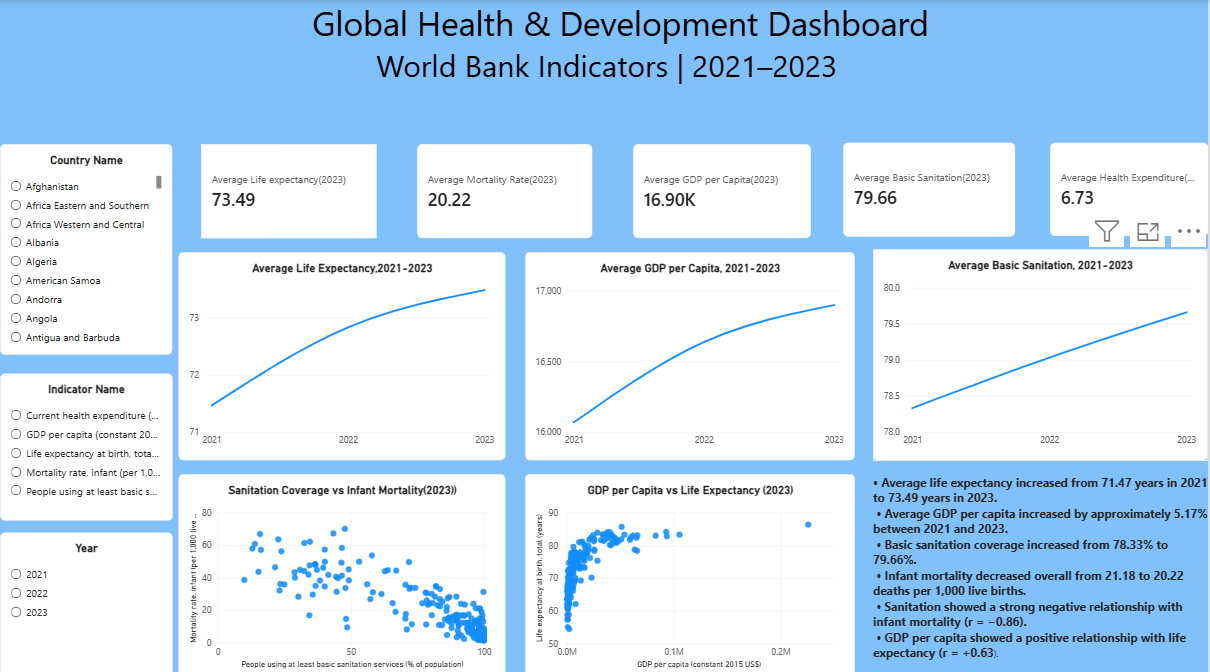

This screenshot's page, from the dashboard's own definition file:
{"tool":"powerbi","page":{"name":"Page 1","canvas":[1920,1080],"ordinal":0},"visuals":[{"type":"textbox","box":[9.5,0,1911.1,138.4],"z":0},{"type":"cardVisual","title":"Average Life Expectancy","fields":{"Data":["Avg(WDI_Capstone_PowerBI_2021_2023.2023)"]},"box":[319.7,229,279.2,150.3],"z":1000},{"type":"cardVisual","title":"Average Life Expectancy","fields":{"Data":["Avg(WDI_Capstone_PowerBI_2021_2023.2023)"]},"box":[663.3,229,279.2,150.3],"z":2000},{"type":"cardVisual","title":"Average Life Expectancy","fields":{"Data":["Avg(WDI_Capstone_PowerBI_2021_2023.2023)"]},"box":[1670.1,226.7,252.1,149.6],"z":3000},{"type":"cardVisual","title":"Average Life Expectancy","fields":{"Data":["Avg(WDI_Capstone_PowerBI_2021_2023.2023)"]},"box":[1340.9,226.7,274.4,150.3],"z":4000},{"type":"cardVisual","title":"Average Life Expectancy","fields":{"Data":["Avg(WDI_Capstone_PowerBI_2021_2023.2023)"]},"box":[1006.9,229,283.9,150.3],"z":5000},{"type":"lineChart","title":"Average Life Expectancy,2021-2023","fields":{"Category":["TrendData.Year"],"Y":["Avg(TrendData.Life Expectancy)"]},"box":[283.9,400.8,520.1,331.6],"z":6000},{"type":"lineChart","title":"Average GDP per Capita, 2021-2023","fields":{"Category":["TrendData.Year"],"Y":["Avg(TrendData.GDP per Capita)"]},"box":[835.1,400.8,524.9,331.6],"z":7000},{"type":"lineChart","title":"Average Basic Sanitation, 2021-2023","fields":{"Category":["TrendData.Year"],"Y":["Avg(TrendData.Basic Sanitation)"]},"box":[1388.6,396.1,532.1,336.4],"z":8000},{"type":"listSlicer","fields":{"Values":["WDI_Capstone_PowerBI_2021_2023.Country Name"]},"box":[0,229,274,335],"z":8001},{"type":"listSlicer","fields":{"Values":["WDI_Capstone_PowerBI_2021_2023.Indicator Name"]},"box":[0,594.1,274.4,233.8],"z":8002},{"type":"listSlicer","title":"Year","fields":{"Values":["TrendData.Year"]},"box":[0,847,274.4,233.8],"z":8004},{"type":"scatterChart","title":"Sanitation Coverage vs Infant Mortality(2023))","fields":{"X":["WDI_Capstone_Final_2023.People using at least basic sanitation services (% of population)"],"Y":["WDI_Capstone_Final_2023.Mortality rate, infant (per 1,000 live births)"]},"box":[283.9,753.9,520.1,326.9],"z":8005},{"type":"scatterChart","title":"GDP per Capita vs Life Expectancy (2023)","fields":{"X":["WDI_Capstone_Final_2023.GDP per capita (constant 2015 US$)"],"Y":["WDI_Capstone_Final_2023.Life expectancy at birth, total (years)"]},"box":[835.1,753.9,524.9,326.9],"z":8006},{"type":"textbox","box":[1388.6,753.9,532.1,326.9],"z":8007}]}

Visuals, with their boxes in screenshot pixels (x1, y1, x2, y2), scaled from the page's 1920x1080 canvas onto the 1210x672 screenshot:
textbox: x1=6 y1=0 x2=1209 y2=86
"Average Life Expectancy" cardVisual: x1=201 y1=142 x2=377 y2=236
"Average Life Expectancy" cardVisual: x1=418 y1=142 x2=594 y2=236
"Average Life Expectancy" cardVisual: x1=1053 y1=141 x2=1209 y2=234
"Average Life Expectancy" cardVisual: x1=845 y1=141 x2=1018 y2=235
"Average Life Expectancy" cardVisual: x1=635 y1=142 x2=813 y2=236
"Average Life Expectancy,2021-2023" lineChart: x1=179 y1=249 x2=507 y2=456
"Average GDP per Capita, 2021-2023" lineChart: x1=526 y1=249 x2=857 y2=456
"Average Basic Sanitation, 2021-2023" lineChart: x1=875 y1=246 x2=1209 y2=456
listSlicer - WDI_Capstone_PowerBI_2021_2023.Country Name: x1=0 y1=142 x2=173 y2=351
listSlicer - WDI_Capstone_PowerBI_2021_2023.Indicator Name: x1=0 y1=370 x2=173 y2=515
"Year" listSlicer: x1=0 y1=527 x2=173 y2=671
"Sanitation Coverage vs Infant Mortality(2023))" scatterChart: x1=179 y1=469 x2=507 y2=671
"GDP per Capita vs Life Expectancy (2023)" scatterChart: x1=526 y1=469 x2=857 y2=671
textbox: x1=875 y1=469 x2=1209 y2=671
